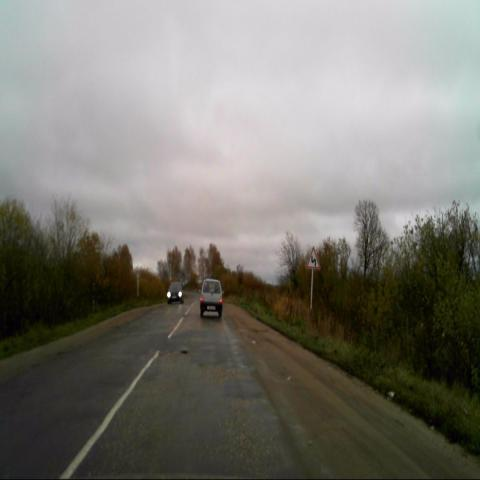1_12_2: (305, 245, 321, 270)
